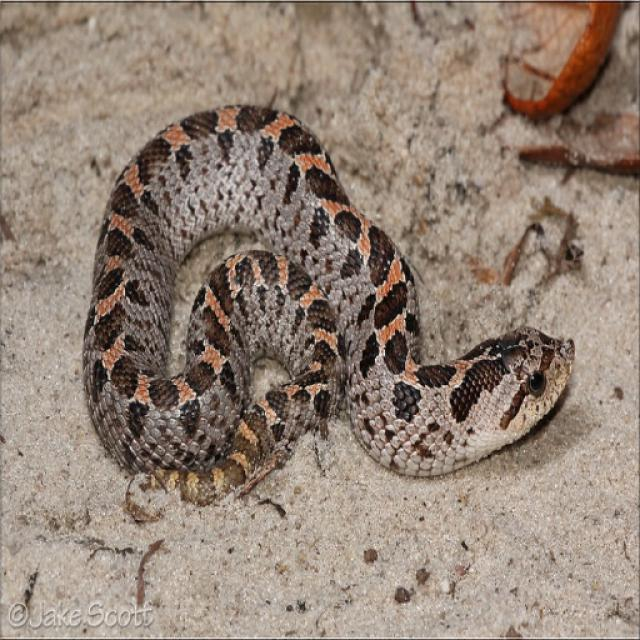snake: (88, 86, 582, 497)
